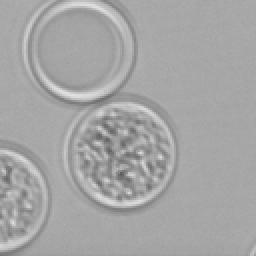picoshell: (62, 94, 176, 208), (22, 0, 134, 102), (0, 140, 50, 254)
